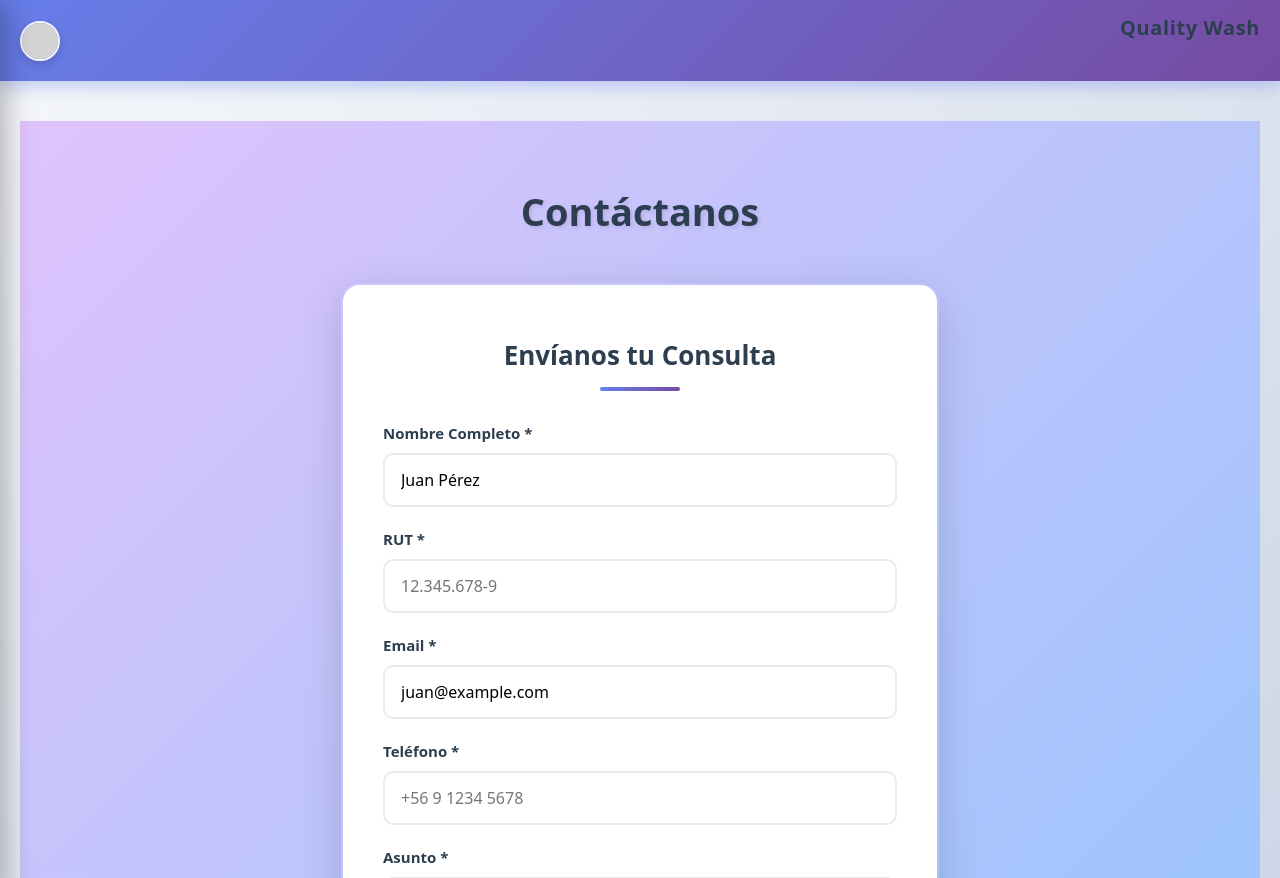
Test: Contacto Component › Validación de RUT › muestra error cuando el RUT es inválido
Type "12.345.678-0" into the field labelled "RUT *" at x=640, y=586, box top-left (383, 559), bottom-right (897, 613)
(page scrolled)
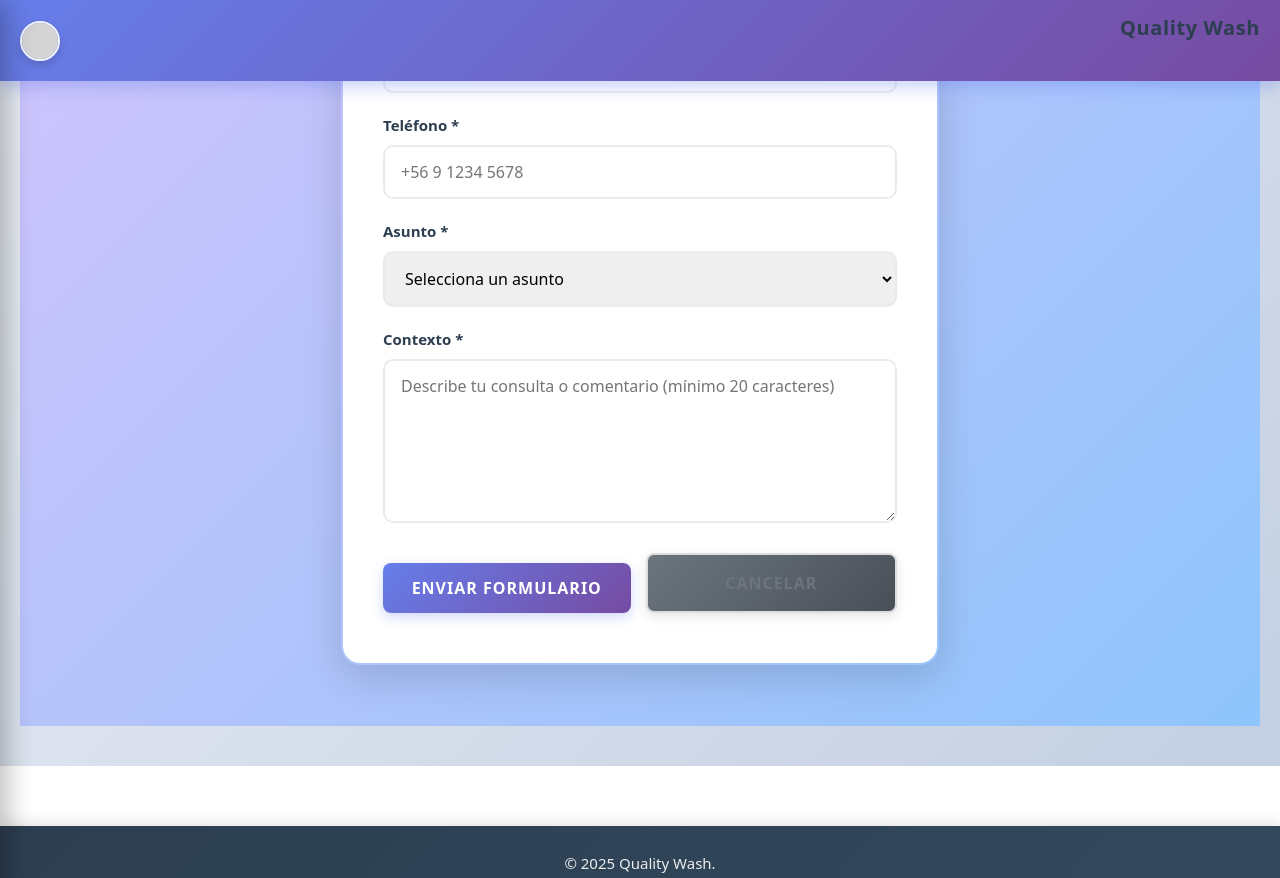
Click the button "Enviar Formulario" at x=507, y=588, box top-left (383, 563), bottom-right (630, 613)
(page scrolled)
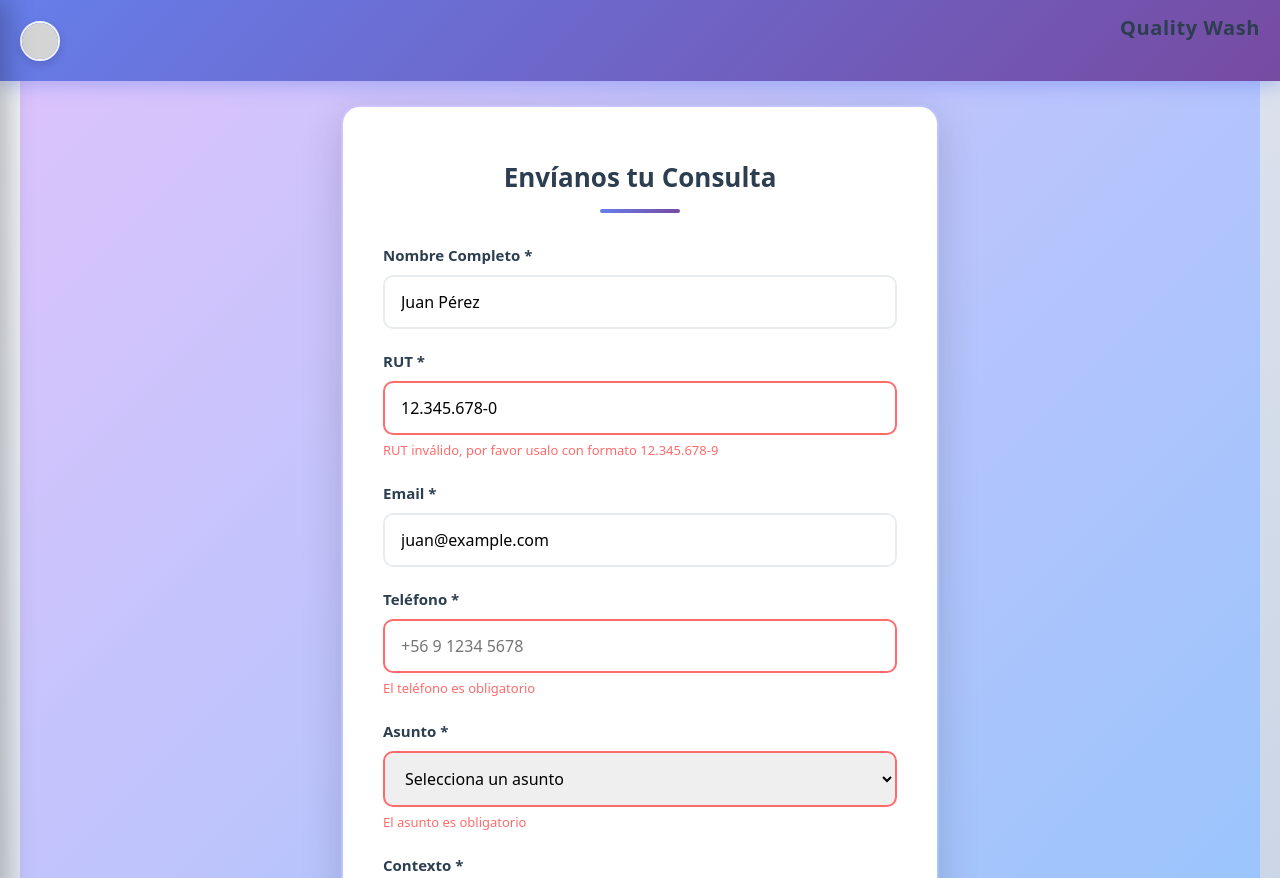
Expected: the text "RUT inválido, por favor usalo con formato 12.345.678-9" is shown, top-left (383, 441), bottom-right (718, 459)
